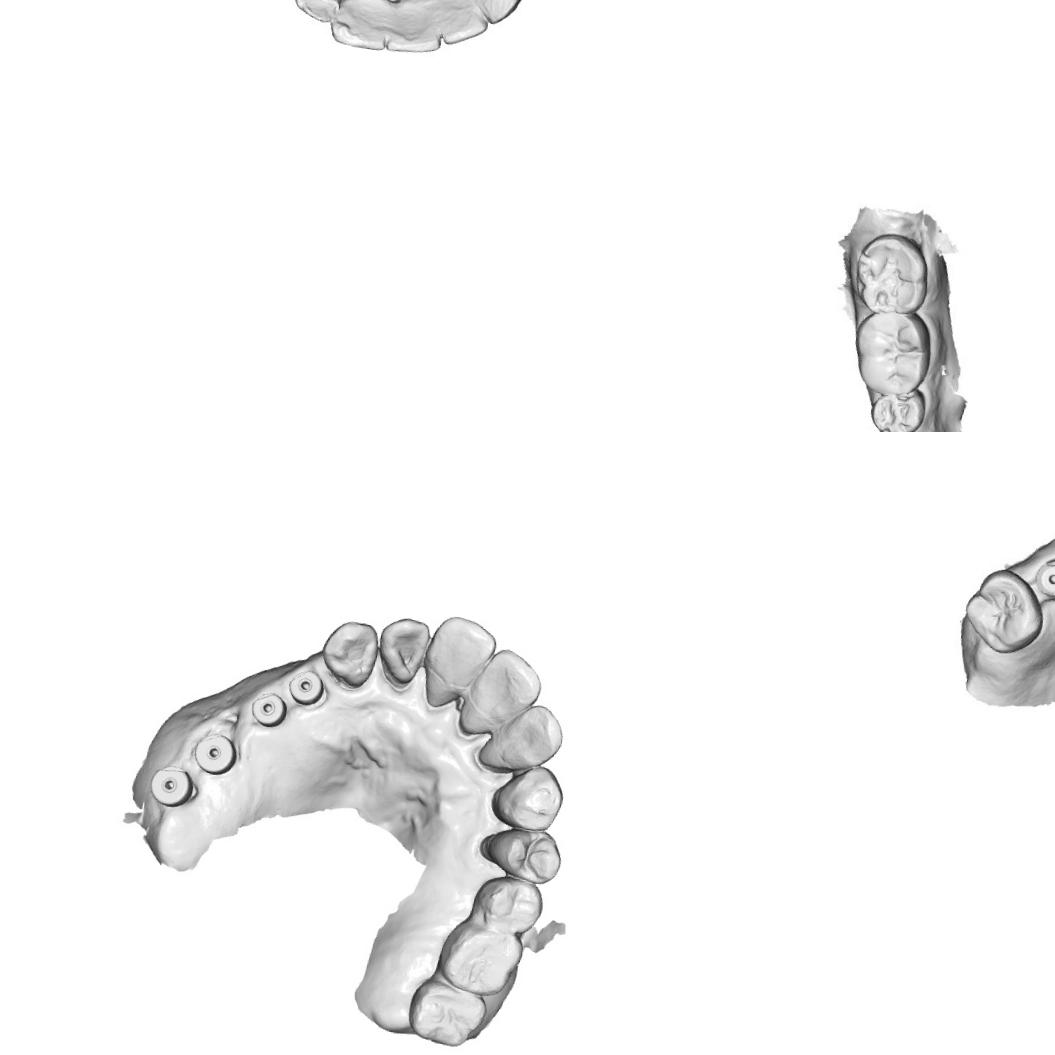canine: (486, 758, 568, 835), (317, 616, 382, 692), (460, 0, 528, 29)
implant: (146, 761, 201, 812), (188, 730, 241, 778), (284, 667, 328, 709), (249, 690, 290, 731), (1032, 553, 1055, 604)
incisor: (420, 612, 499, 706), (469, 643, 547, 726), (496, 698, 568, 774), (372, 613, 432, 694), (324, 0, 397, 54), (388, 2, 448, 63), (437, 0, 492, 49), (292, 0, 346, 29)
molar: (956, 560, 1050, 662), (433, 920, 526, 1000), (849, 312, 932, 396), (854, 229, 932, 313), (404, 979, 490, 1052)
premolar: (474, 820, 566, 888), (468, 871, 548, 936), (871, 389, 919, 432)
